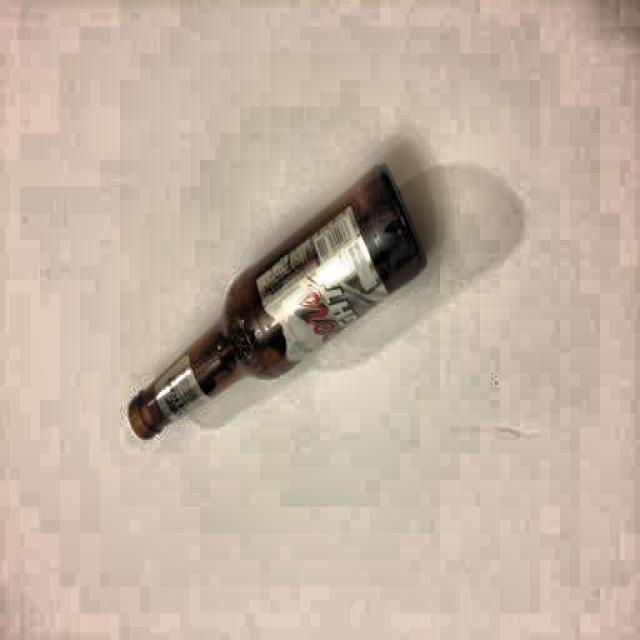glass: (126, 152, 431, 444)
